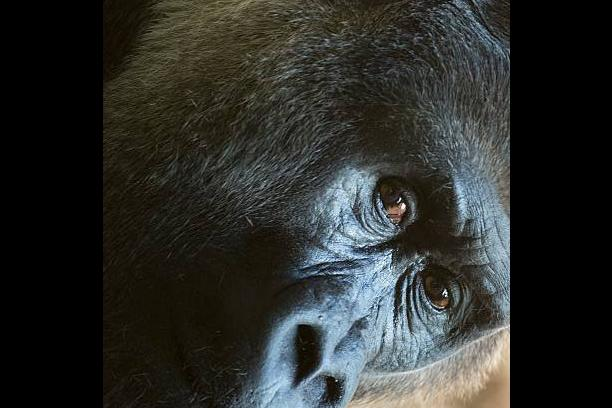gorille_Autres: (103, 0, 507, 408)
